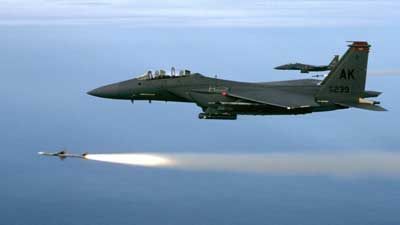airplane: (81, 36, 392, 118)
